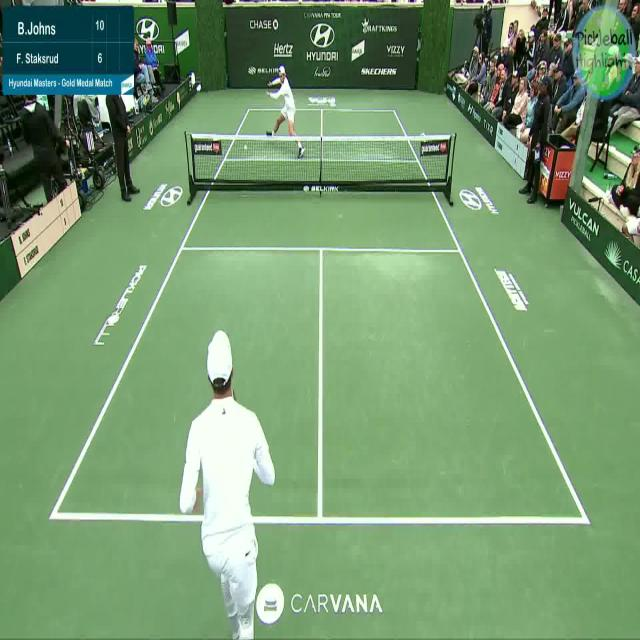Court: (50, 107, 590, 523)
ball: (240, 136, 256, 162)
